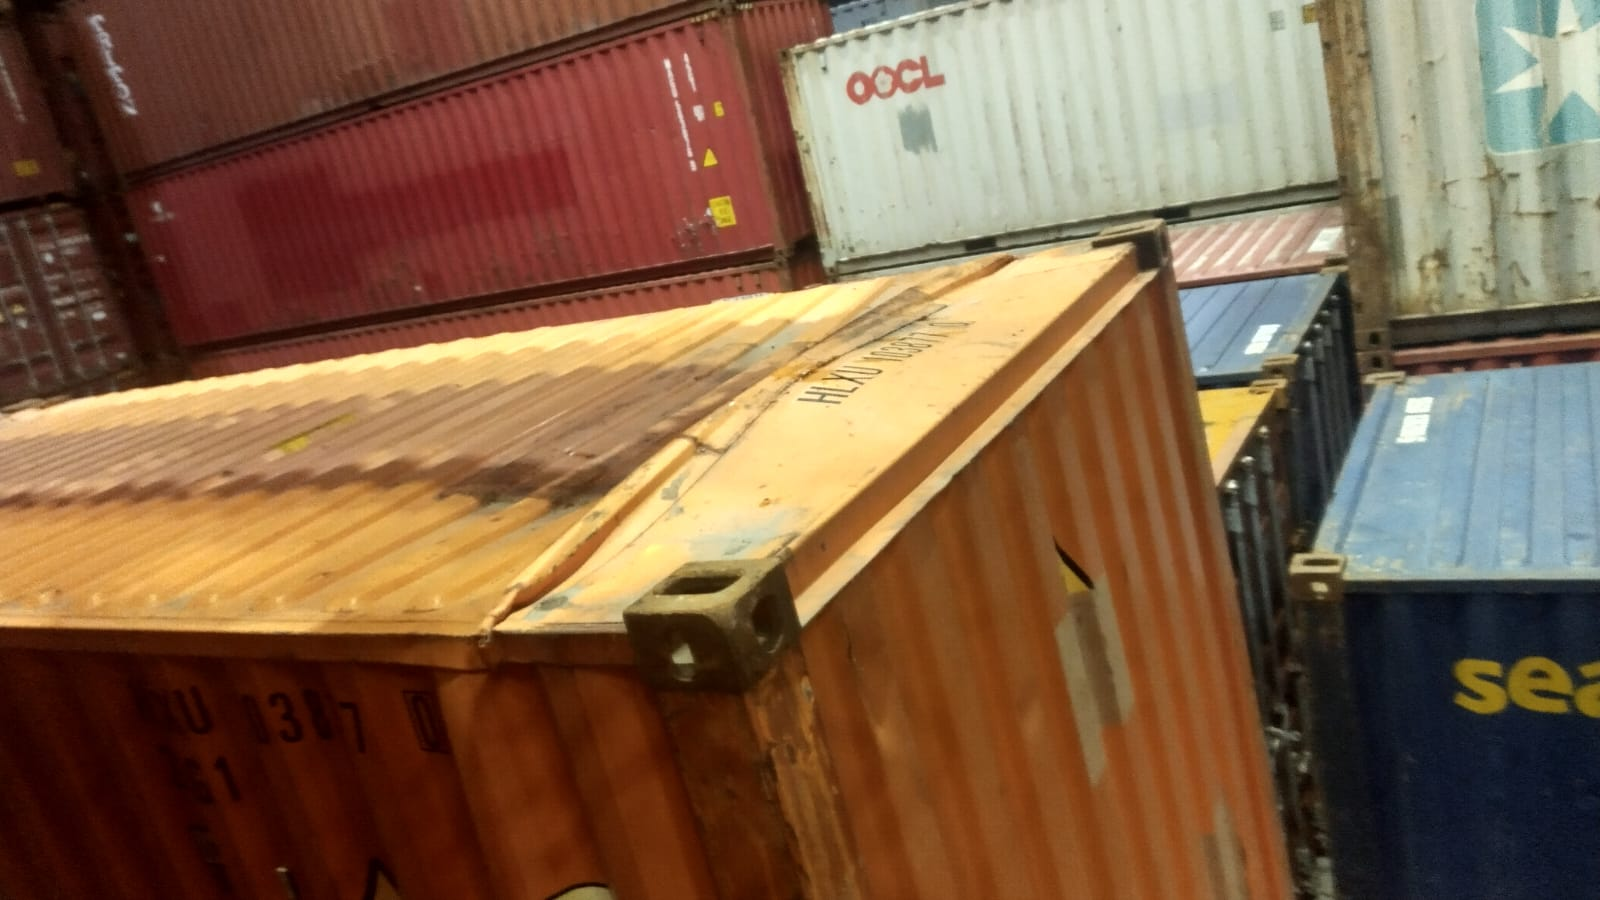moderate: (363, 321, 919, 498)
severe: (1032, 524, 1119, 621)
